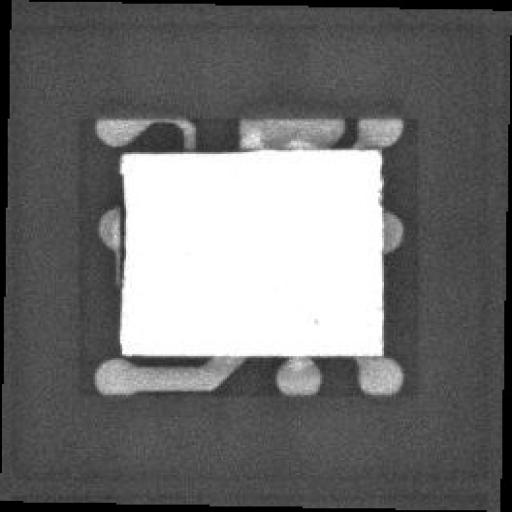DIE_BROKEN: (116, 141, 248, 158), (116, 167, 126, 308)
